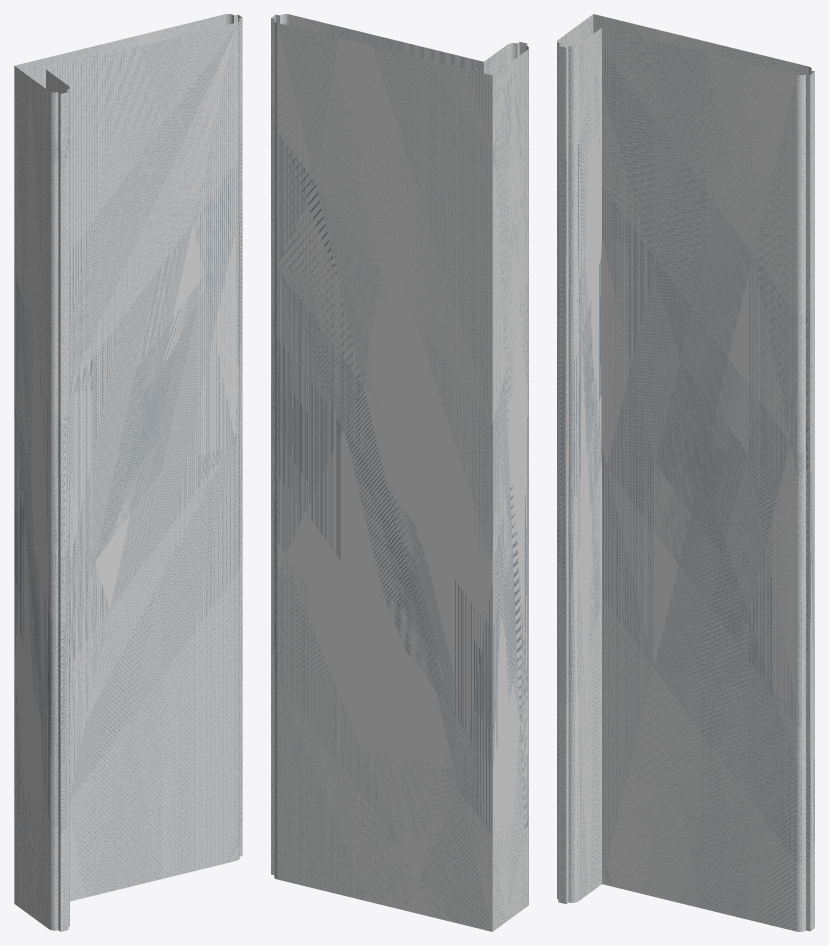
Rendered from PW_CornerFixElem_ds_T1_035x110x010x400.dae.
3 renders of one model, left to right at view 1: azimuth 30°, elevation 25°; view 2: azimuth 150°, elevation 25°; view 3: azimuth 330°, elevation 25°, orthographic. The views are drawn at different scales.
Parts seen in each view (by area): view 1: group_0; view 2: group_0; view 3: group_0.
Part boxes in pixels (left/top/right/bottom): group_0: left=14, top=14, right=242, bottom=931; group_0: left=271, top=14, right=528, bottom=931; group_0: left=557, top=14, right=814, bottom=931.
Size of the model in its own units: 43.31 by 13.78 by 157.
